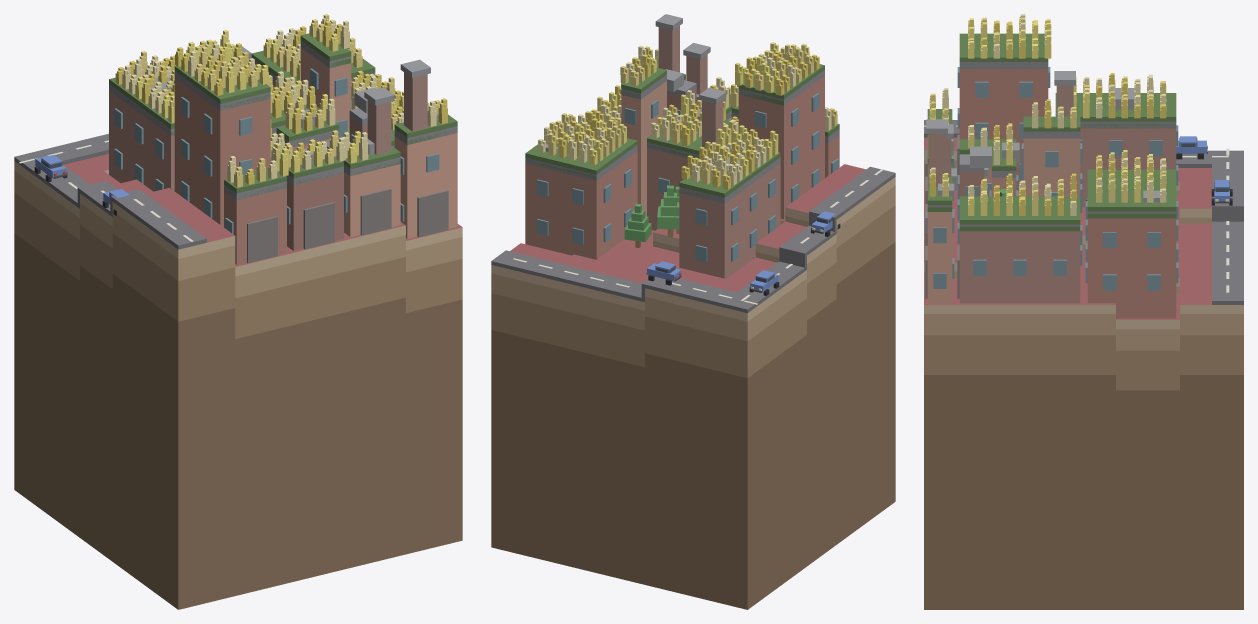
Rendered from block_25_urbanfarm_75.glb.
3 views of the same model, side by side, from view 1: azimuth 30°, elevation 25°; view 2: azimuth 150°, elevation 25°; view 3: azimuth 270°, elevation 25° (orthographic). The views are drawn at different scales.
Parts seen in each view (by area): view 1: Patch_UpperRight_b25_UF, Factories_UpperRight_b25_UF, UFR_Factories_UpperRight_b25_UF, Roads_UpperRight_b25_UF, RCar_15_UF; view 2: Patch_UpperRight_b25_UF, Factories_UpperRight_b25_UF, Roads_UpperRight_b25_UF, UFR_Factories_UpperRight_b25_UF, FTree_2_UF, FTree_0_UF, RCar_7_UF; view 3: Patch_UpperRight_b25_UF, Factories_UpperRight_b25_UF, UFR_Factories_UpperRight_b25_UF, Roads_UpperRight_b25_UF, RCar_15_UF, RCar_7_UF.
Boxes of the visible parts, x1,y1,x2,y2 form: Patch_UpperRight_b25_UF: [14, 154, 462, 609]; Factories_UpperRight_b25_UF: [109, 40, 457, 264]; UFR_Factories_UpperRight_b25_UF: [109, 33, 457, 199]; Roads_UpperRight_b25_UF: [14, 133, 206, 249]; RCar_15_UF: [34, 155, 67, 181]; Patch_UpperRight_b25_UF: [491, 164, 895, 609]; Factories_UpperRight_b25_UF: [525, 14, 839, 278]; Roads_UpperRight_b25_UF: [491, 166, 895, 313]; UFR_Factories_UpperRight_b25_UF: [525, 64, 839, 202]; FTree_2_UF: [657, 185, 679, 237]; FTree_0_UF: [624, 203, 651, 247]; RCar_7_UF: [646, 261, 681, 285]; Patch_UpperRight_b25_UF: [924, 137, 1243, 609]; Factories_UpperRight_b25_UF: [925, 62, 1178, 318]; UFR_Factories_UpperRight_b25_UF: [927, 33, 1176, 231]; Roads_UpperRight_b25_UF: [924, 120, 1243, 304]; RCar_15_UF: [1176, 136, 1207, 159]; RCar_7_UF: [1211, 180, 1232, 205].
Size of the model in its own units: 9.6 by 16.18 by 9.5.
